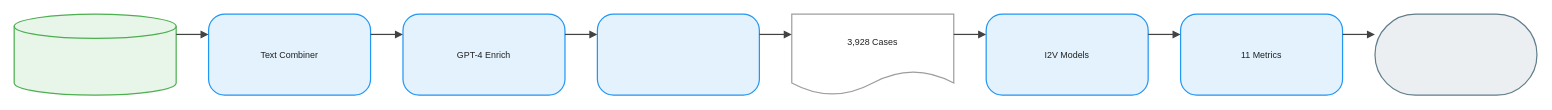
Image size: 1552x110. Some labels were removed from this diagram. Here are the shapes that lost their labels. From the top down, the centre of each, then its label:
At point (94, 54): "Real Pairs".
At point (678, 54): "SDXL + Filter".
At point (1455, 54): "Human Check".
